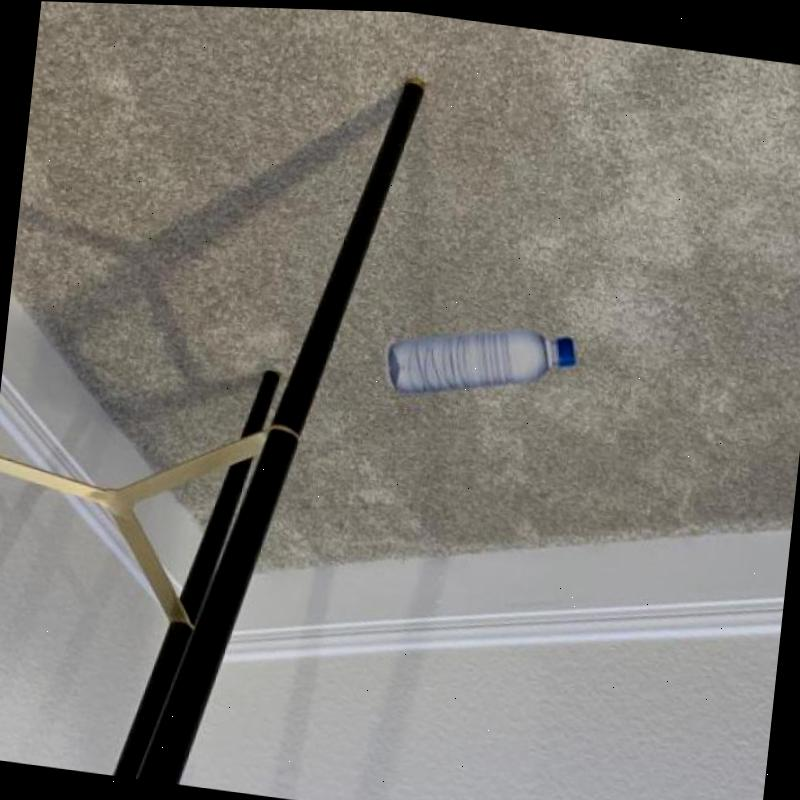botella: (380, 304, 577, 412)
